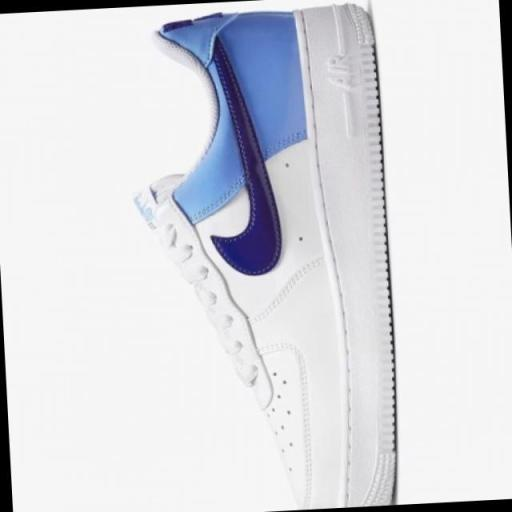Nike: (200, 30, 295, 292)
